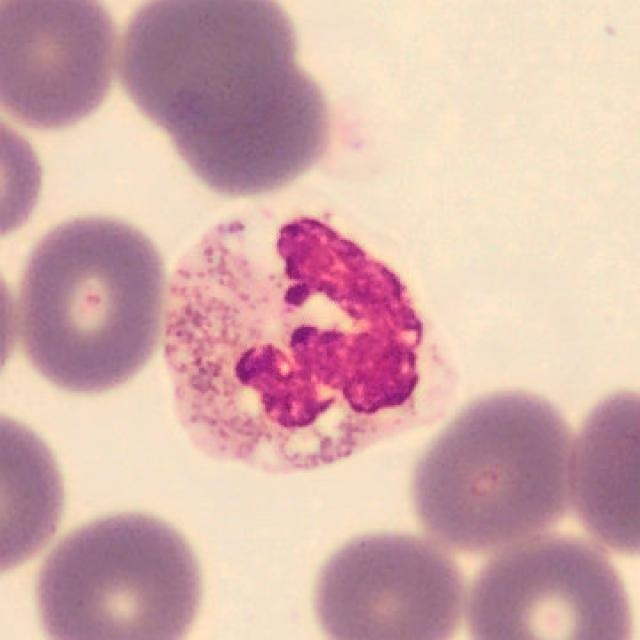Neutrofilo segmentado: (162, 192, 464, 476)
